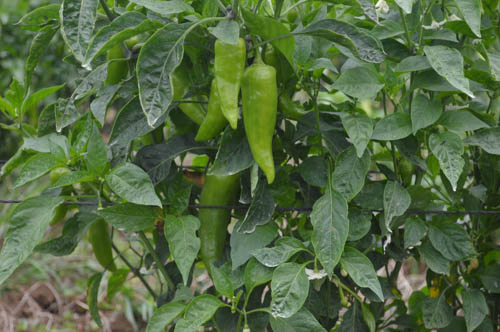ChiliPepper: (242, 64, 280, 181), (201, 172, 242, 276), (216, 37, 244, 129), (194, 81, 229, 148), (90, 221, 118, 272)
